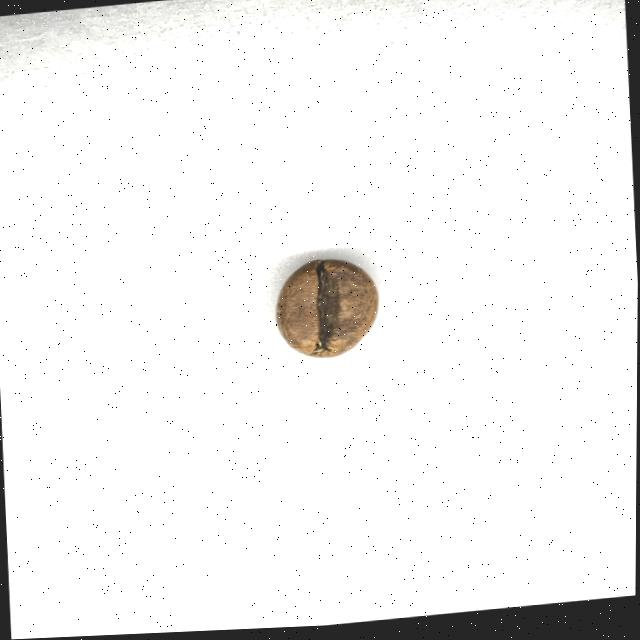Good bean: (272, 257, 382, 367)
